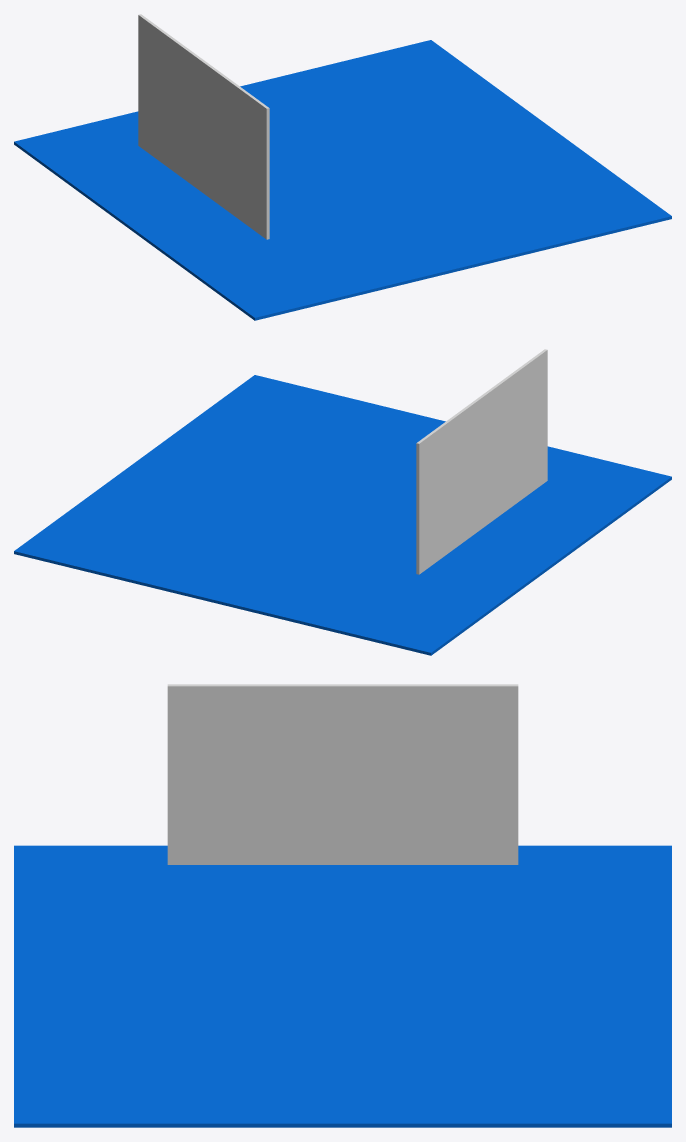
File: interior.glb
3 views of the same model, one above another, from view 1: azimuth 30°, elevation 25°; view 2: azimuth 150°, elevation 25°; view 3: azimuth 270°, elevation 25° (orthographic). The views are drawn at different scales.
Visible parts, largest first — view 1: Ground, Cube.001; view 2: Ground, Cube.001; view 3: Ground, Cube.001.
Part boxes in pixels (x1,y1,x2,y2): Ground: (14, 40, 671, 320); Cube.001: (138, 14, 269, 239); Ground: (14, 375, 671, 655); Cube.001: (416, 349, 547, 574); Ground: (14, 845, 671, 1127); Cube.001: (167, 684, 518, 864).
Bounding box in the file's own units: 30 × 10.6 × 30.
